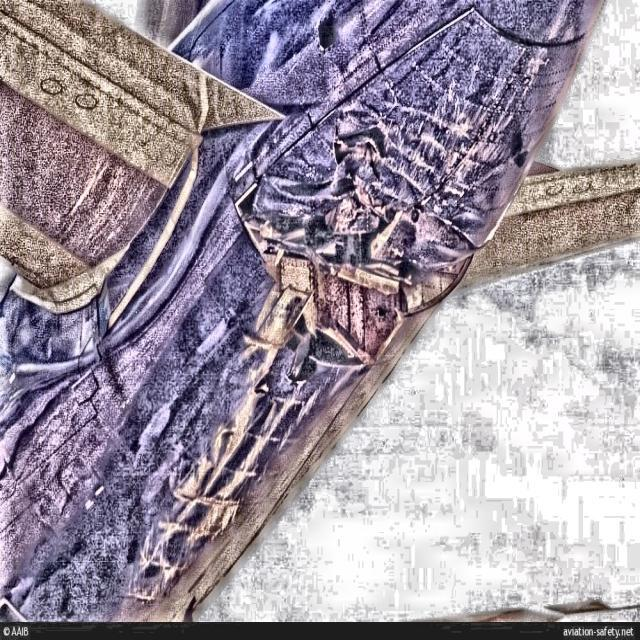crack: (231, 132, 426, 356)
